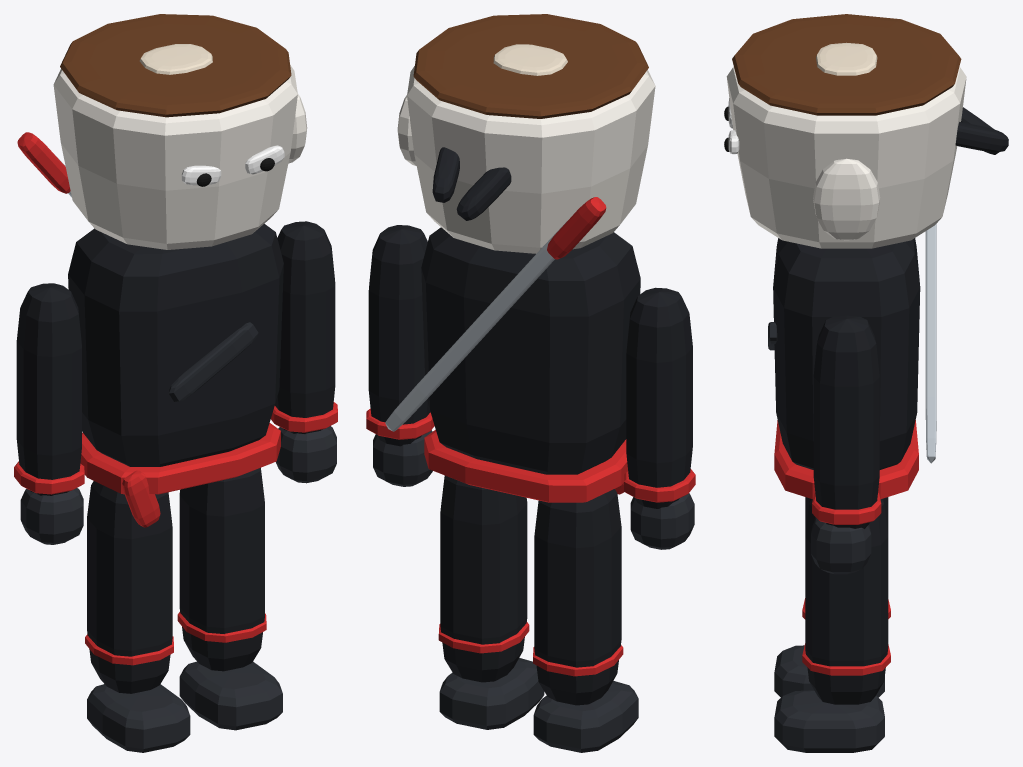
The model's file is br-assassino.glb.
3 views of the same model, side by side, from view 1: azimuth 30°, elevation 25°; view 2: azimuth 150°, elevation 25°; view 3: azimuth 270°, elevation 25° (orthographic).
Parts seen in each view (by area): view 1: torso, head, leg-right, leg-left, arm-right, arm-left; view 2: torso, head, leg-right, leg-left, arm-right, arm-left; view 3: head, torso, leg-left, arm-left, leg-right.
Boxes of the visible parts, x1,y1,x2,y2 form: torso: (17,132,283,527); head: (53,14,307,249); leg-right: (85,481,190,752); leg-left: (177,467,282,730); arm-right: (14,283,84,544); arm-left: (271,221,337,483); torso: (385,197,640,502); head: (397,14,655,253); leg-right: (533,489,638,752); leg-left: (438,475,544,729); arm-right: (624,287,695,549); arm-left: (366,225,434,486); head: (724,14,1008,248); torso: (768,224,936,499); leg-left: (774,498,890,752); arm-left: (811,315,881,574); leg-right: (774,497,890,697).
Size of the model in its own units: 1.27 by 2.59 by 1.01.
